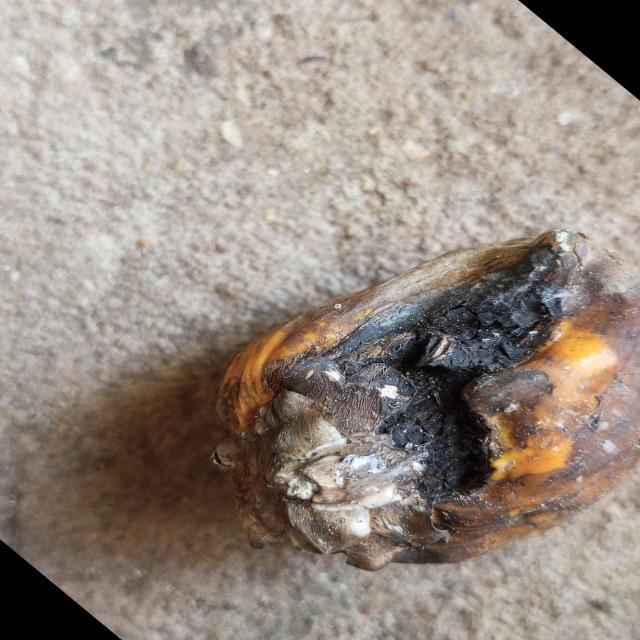damaged: (214, 230, 640, 570)
